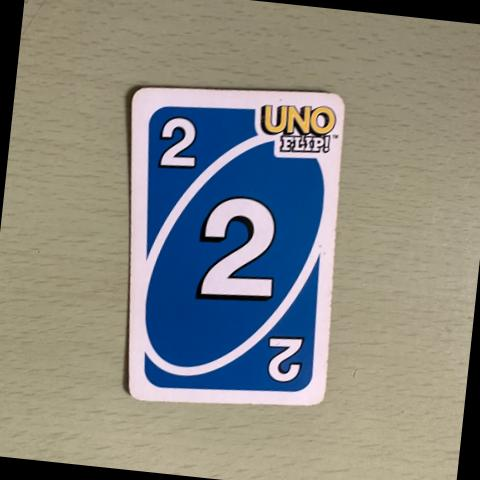lblue-2: (138, 100, 212, 184)
